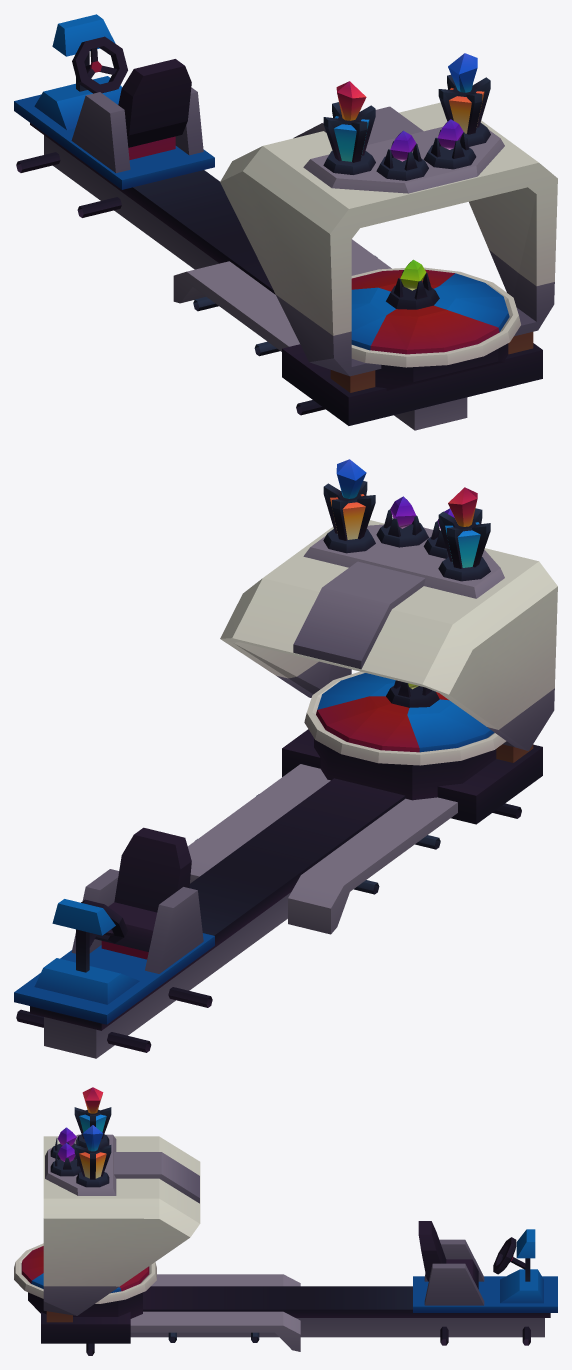
The model's file is Model_car_body.gltf.
3 renders of one model, top to bottom at view 1: azimuth 30°, elevation 25°; view 2: azimuth 150°, elevation 25°; view 3: azimuth 270°, elevation 25°, orthographic. The views are drawn at different scales.
Visible parts, largest first — view 1: Model_car_body; view 2: Model_car_body; view 3: Model_car_body.
Boxes of the visible parts, <box> form: Model_car_body: <box>14,14,557,430</box>; Model_car_body: <box>14,459,557,1058</box>; Model_car_body: <box>14,1087,557,1355</box>.
Size of the model in its own units: 2.16 by 2.99 by 6.61.
1 material, 1 textured.
